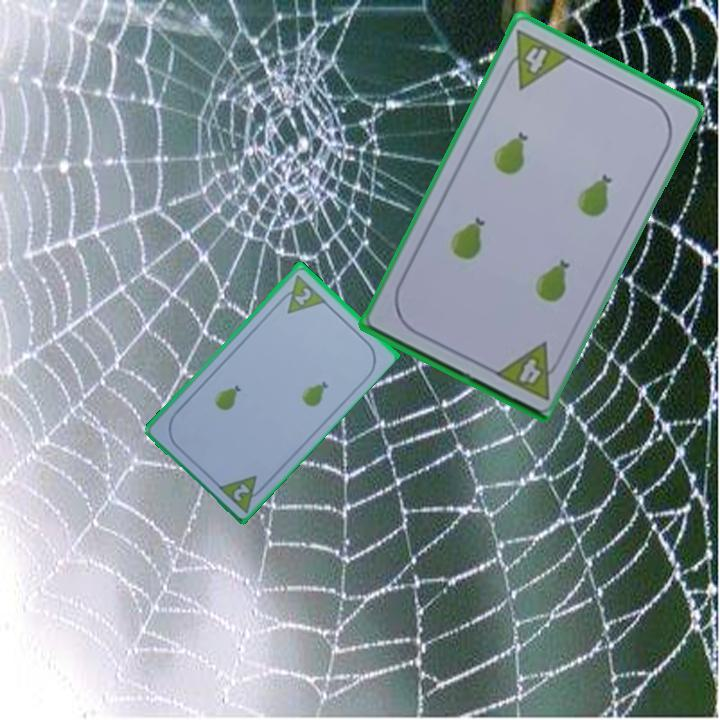2p: (274, 270, 327, 316), (229, 479, 253, 504)
4p: (496, 26, 574, 92), (489, 338, 567, 402)
